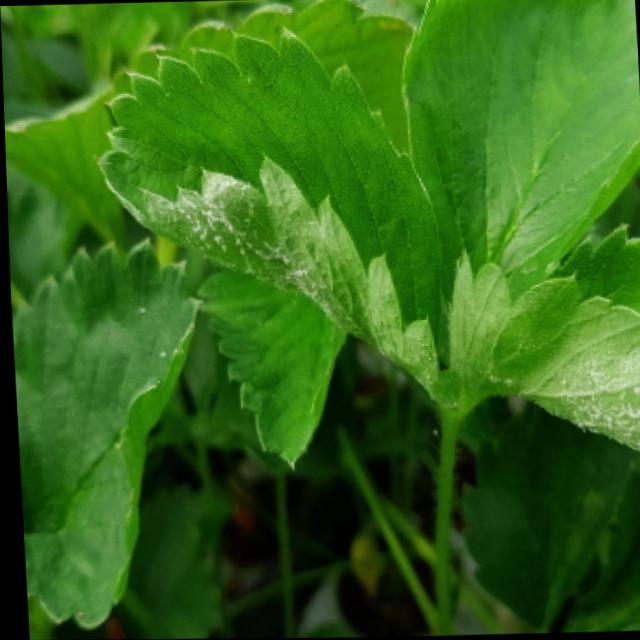Powdery Mildew Leaf: (90, 23, 462, 406), (10, 235, 201, 633), (439, 223, 640, 457)
